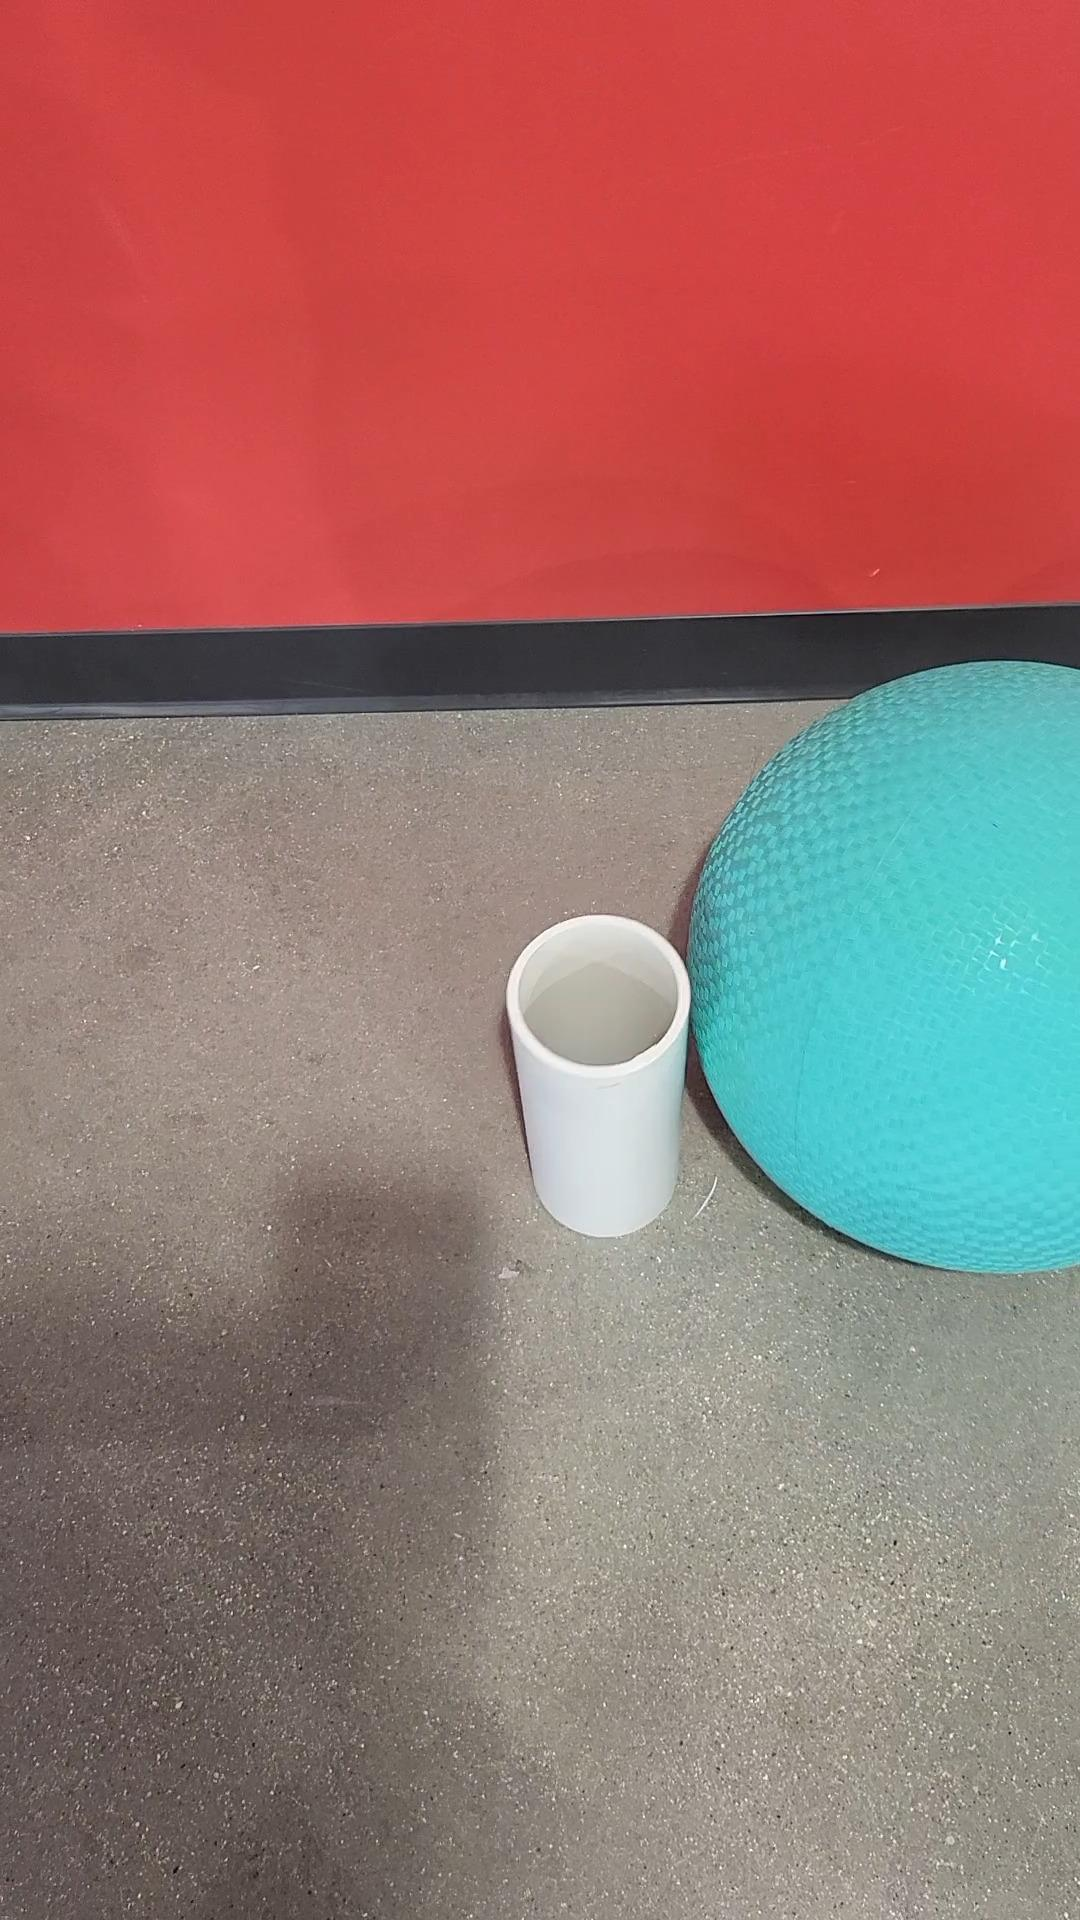algae: (683, 658, 1079, 1282)
coral: (504, 905, 694, 1240)
